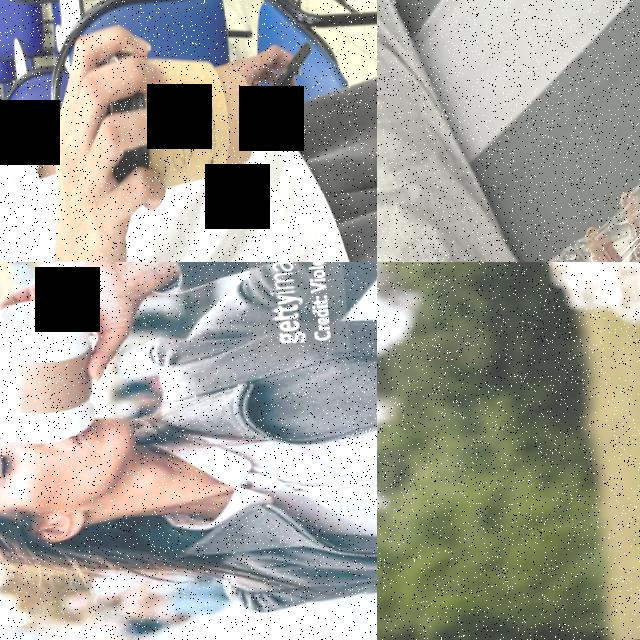bottle: (377, 51, 640, 262)
cup: (100, 42, 260, 190), (0, 291, 108, 449)
